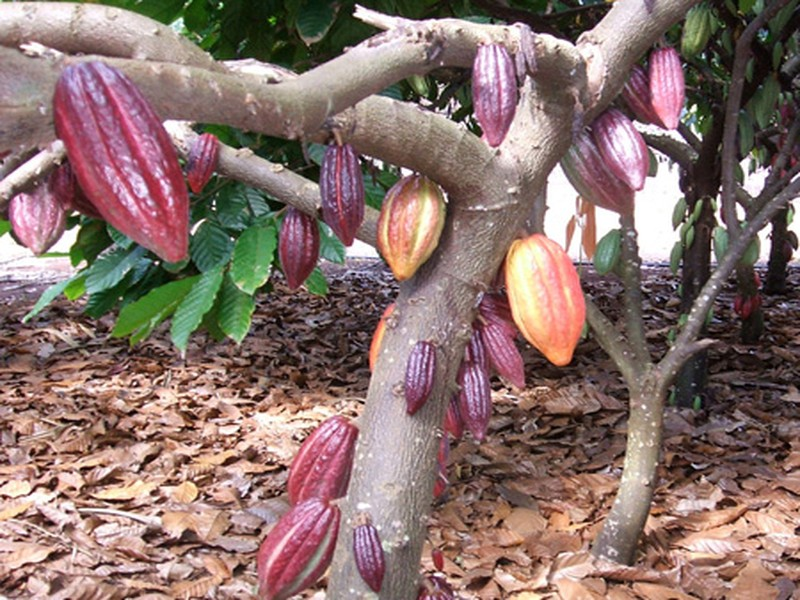Cacaopod: (54, 60, 187, 266), (505, 234, 587, 368), (377, 173, 447, 283), (472, 42, 519, 150)
